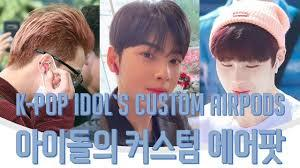earphone: (40, 63, 52, 76), (112, 62, 120, 74), (273, 59, 279, 73)
